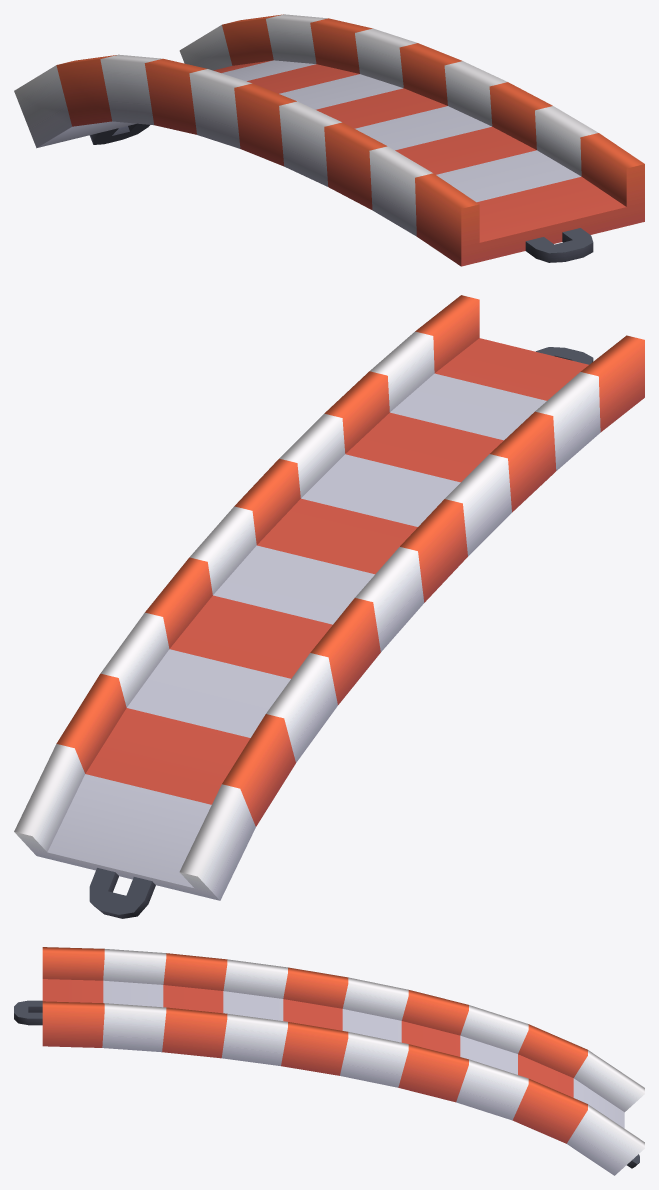
File: track-striped-narrow-straight-hill-end.glb
3 views of the same model, one above another, from view 1: azimuth 30°, elevation 25°; view 2: azimuth 150°, elevation 25°; view 3: azimuth 270°, elevation 25° (orthographic). The views are drawn at different scales.
Parts seen in each view (by area): view 1: track-striped-narrow-straight-hill-end; view 2: track-striped-narrow-straight-hill-end; view 3: track-striped-narrow-straight-hill-end.
Part boxes in pixels (x1=…): track-striped-narrow-straight-hill-end: x1=14, y1=14, x2=644, y2=266; track-striped-narrow-straight-hill-end: x1=14, y1=295, x2=644, y2=918; track-striped-narrow-straight-hill-end: x1=14, y1=947, x2=644, y2=1175.
Size of the model in its own units: 0.9997 by 1.44 by 4.41.
Materials: 1 (1 with a texture image).
